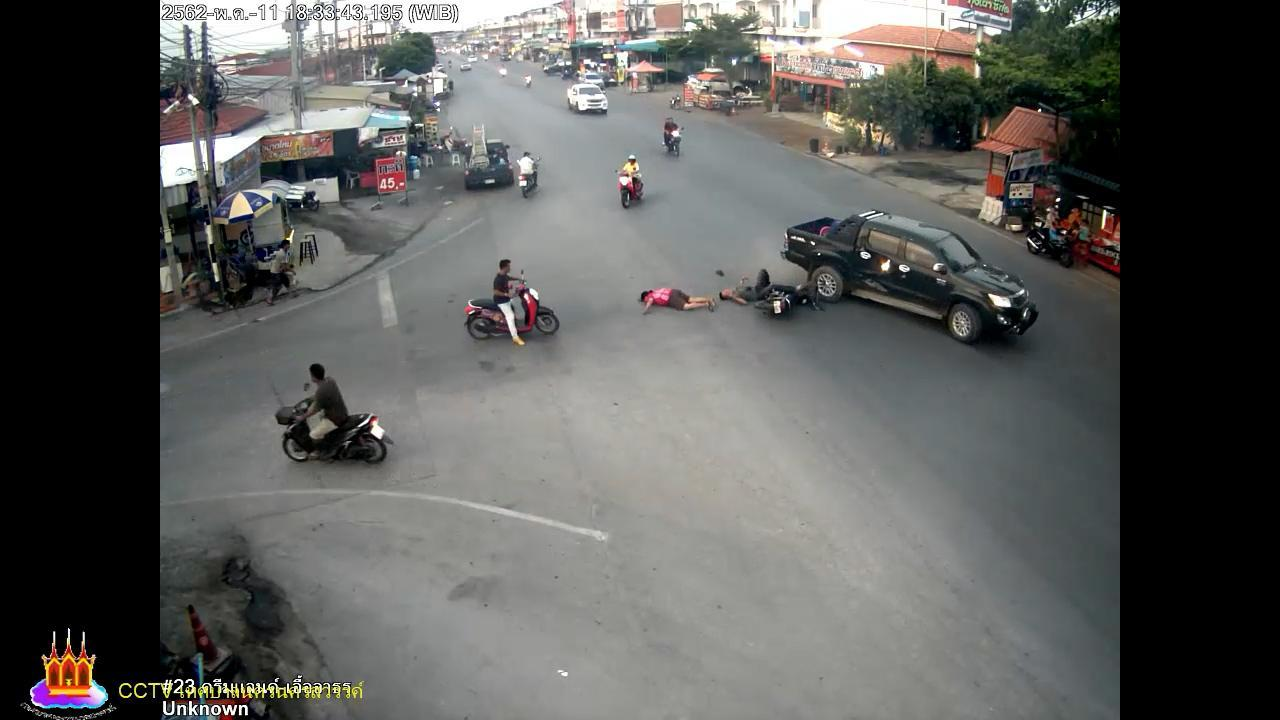accident: (637, 285, 717, 322), (719, 267, 775, 308)
